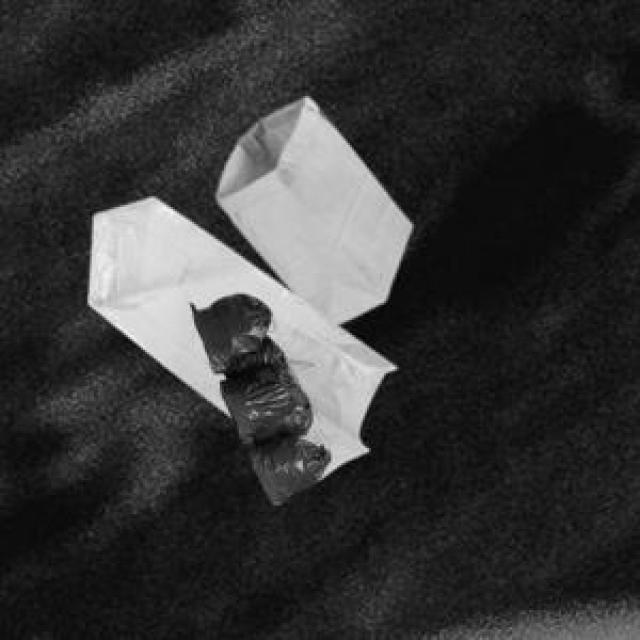miscellaneous trash: (189, 290, 326, 501)
paper: (213, 94, 408, 320)
